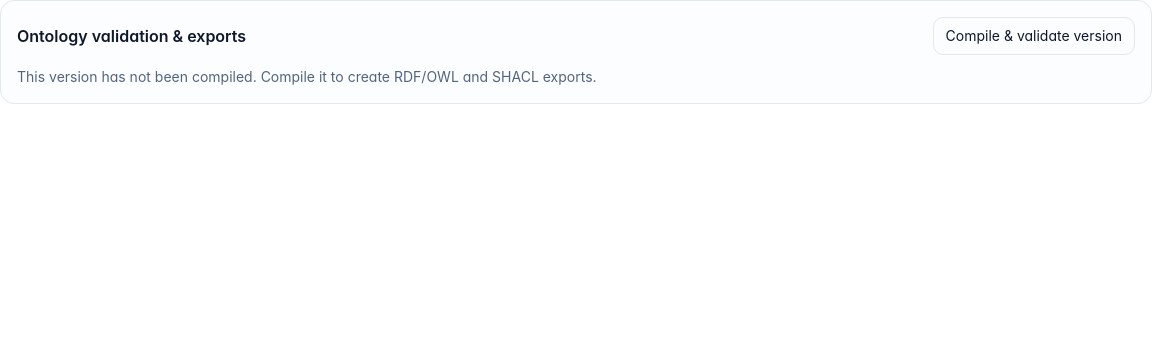
Test case: loads a selected version without compiling until explicitly requested
Click the button "Compile & validate version" at point(1034, 36), box [933, 17, 1135, 55]
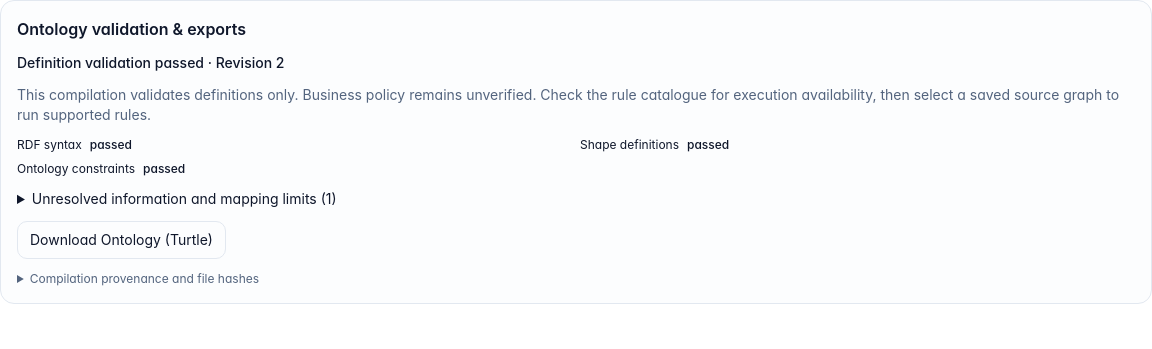
Check: the text "Definition validation passed · Revision 2" is shown, box [17, 54, 284, 71]
Check: the text "This compilation validates definitions only" is shown, box [17, 86, 1119, 123]
Click the heading "Unresolved information and mapping limits (1)" at point(184, 198), box [32, 190, 337, 207]
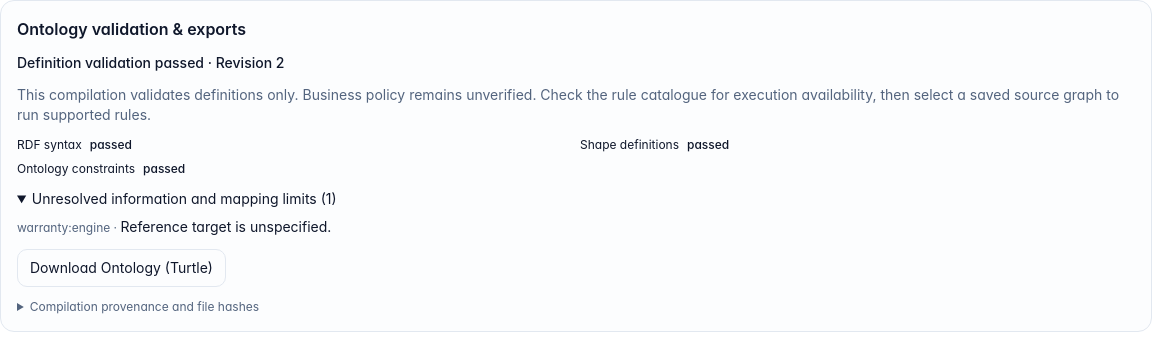
Check: the list item "Reference target is unspecified." is shown, box [120, 218, 331, 235]
